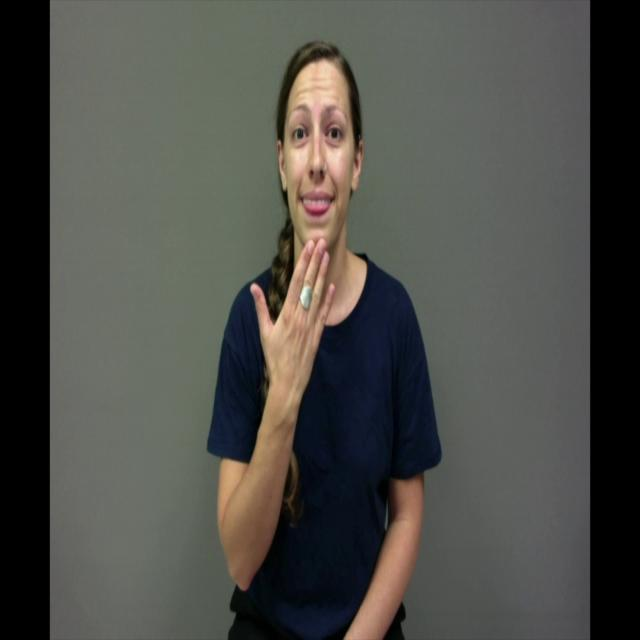thankyou: (251, 107, 358, 380)
